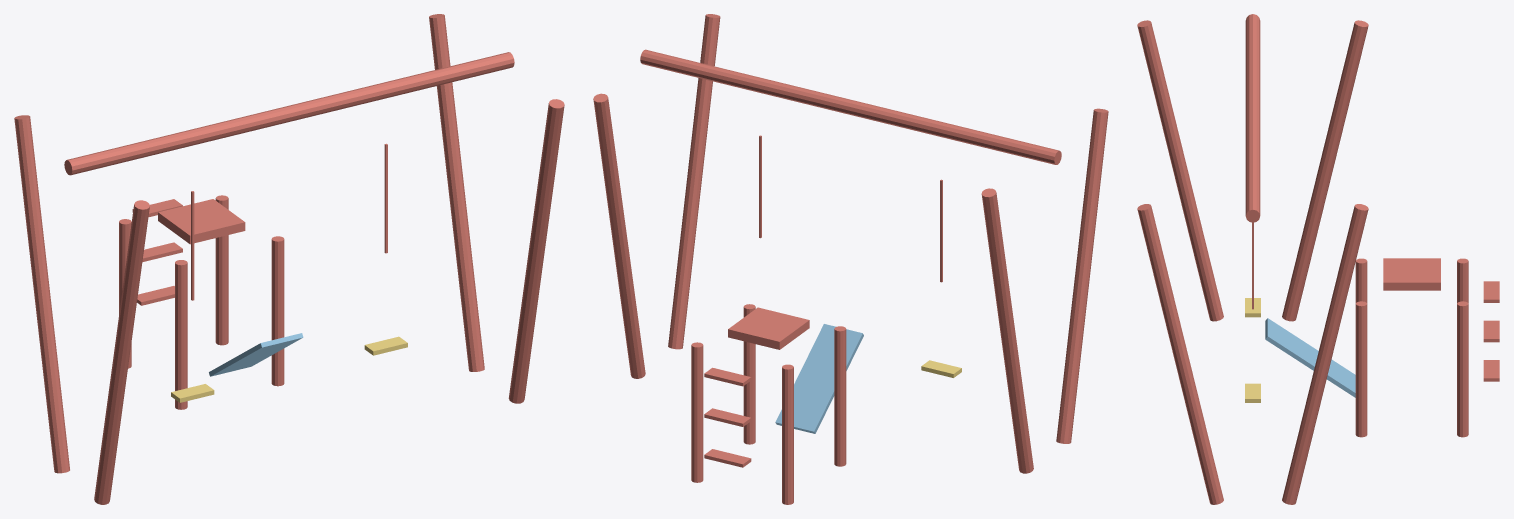
The model's file is school_playground.glb.
The picture shows the model from 3 angles, left to right: view 1: azimuth 30°, elevation 25°; view 2: azimuth 150°, elevation 25°; view 3: azimuth 270°, elevation 25°; orthographic projection. The views are drawn at different scales.
Visible parts, largest first — view 1: SchoolPlayground; view 2: SchoolPlayground; view 3: SchoolPlayground.
Boxes of the visible parts, x1,y1,x2,y2 form: SchoolPlayground: (14,14,564,504); SchoolPlayground: (593,14,1108,504); SchoolPlayground: (1137,14,1499,504).
Bounding box in the file's own units: 3.2 × 2.3 × 2.5.
